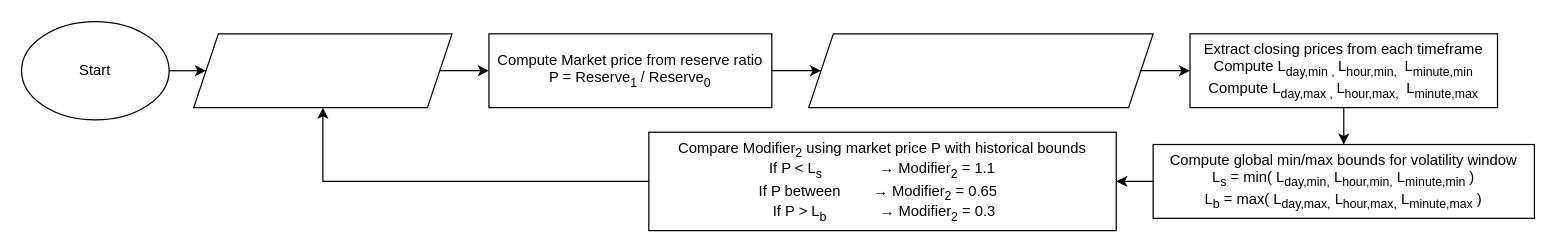
Some shapes in this 1556 by 252 pixel diagram are drawn without their labels. The centre of each missing label's shape, as x and y in pixels:
Fetch OHLCV data for day, hour, and minute: (x=980, y=70)
Fetch On-chain reserves ( Reserve 0 and Reserve 1 ): (x=322, y=70)
